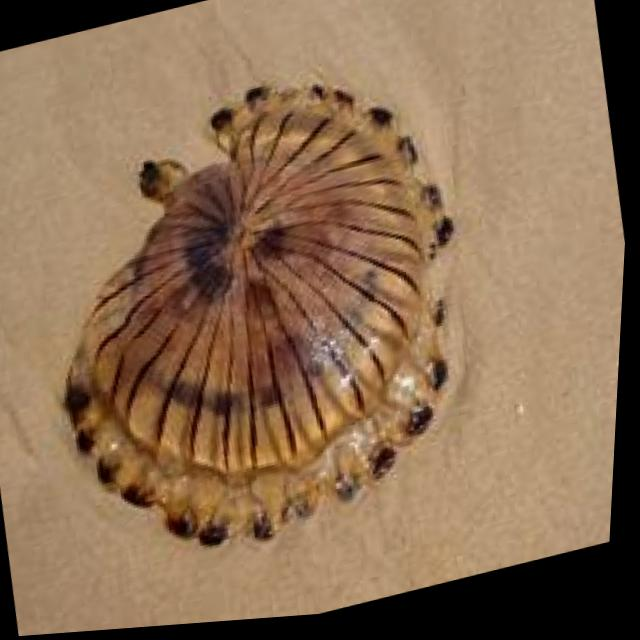Box-jellyfish: (12, 40, 515, 592)
